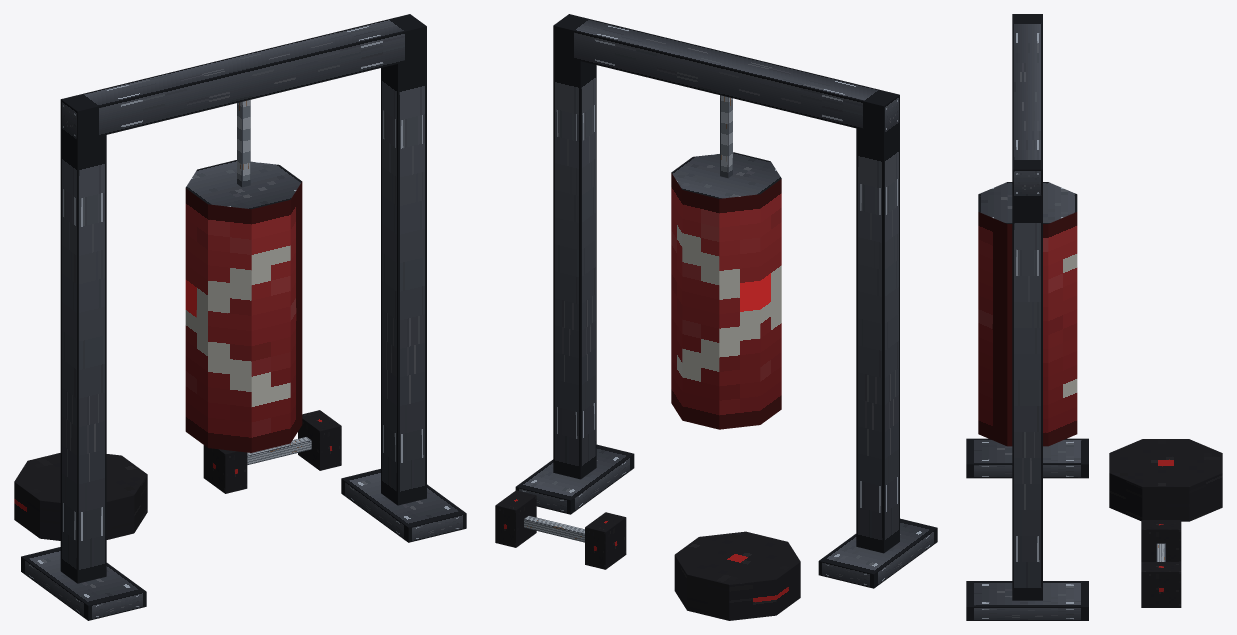
File: sal_heavy_bag.glb
3 renders of one model, left to right at view 1: azimuth 30°, elevation 25°; view 2: azimuth 150°, elevation 25°; view 3: azimuth 270°, elevation 25°, orthographic. The views are drawn at different scales.
Parts seen in each view (by area): view 1: Body, Swing; view 2: Body, Swing; view 3: Body, Swing.
Boxes of the visible parts, bbox=[...] form: Body: bbox=[14, 14, 466, 620]; Swing: bbox=[185, 100, 302, 452]; Body: bbox=[495, 14, 937, 620]; Swing: bbox=[671, 95, 781, 429]; Body: bbox=[966, 14, 1222, 620]; Swing: bbox=[978, 182, 1077, 446].
Bounding box in the file's own units: 1.62 × 2 × 1.04.
1 material, 1 textured.
